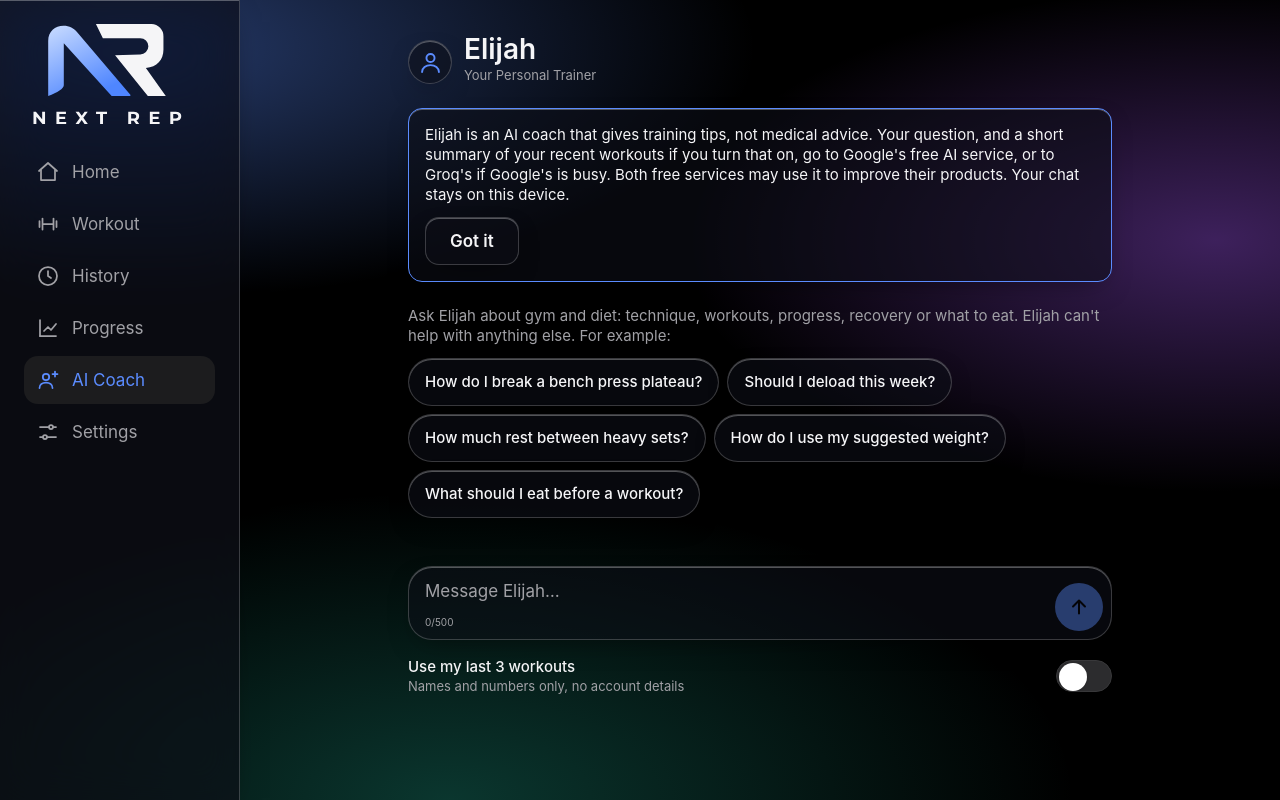
Scenario: the Coach screen › sends the earlier turns with the next question
The image size is (1280, 800).
Type "one" into the text box with placeholder "Message Elijah…" at [760, 603], box [409,567,1111,639]
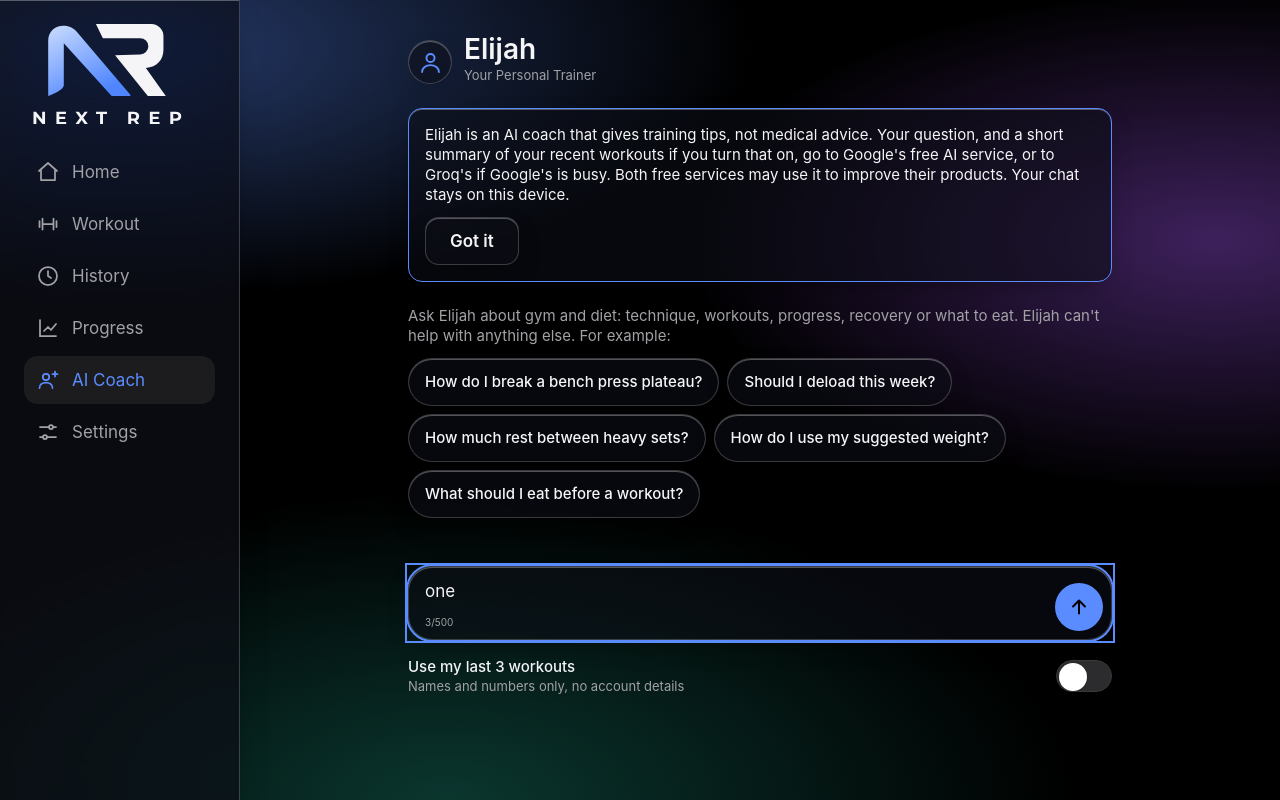
Click the button named "Send" at [1079, 607], box [1055,583,1103,631]
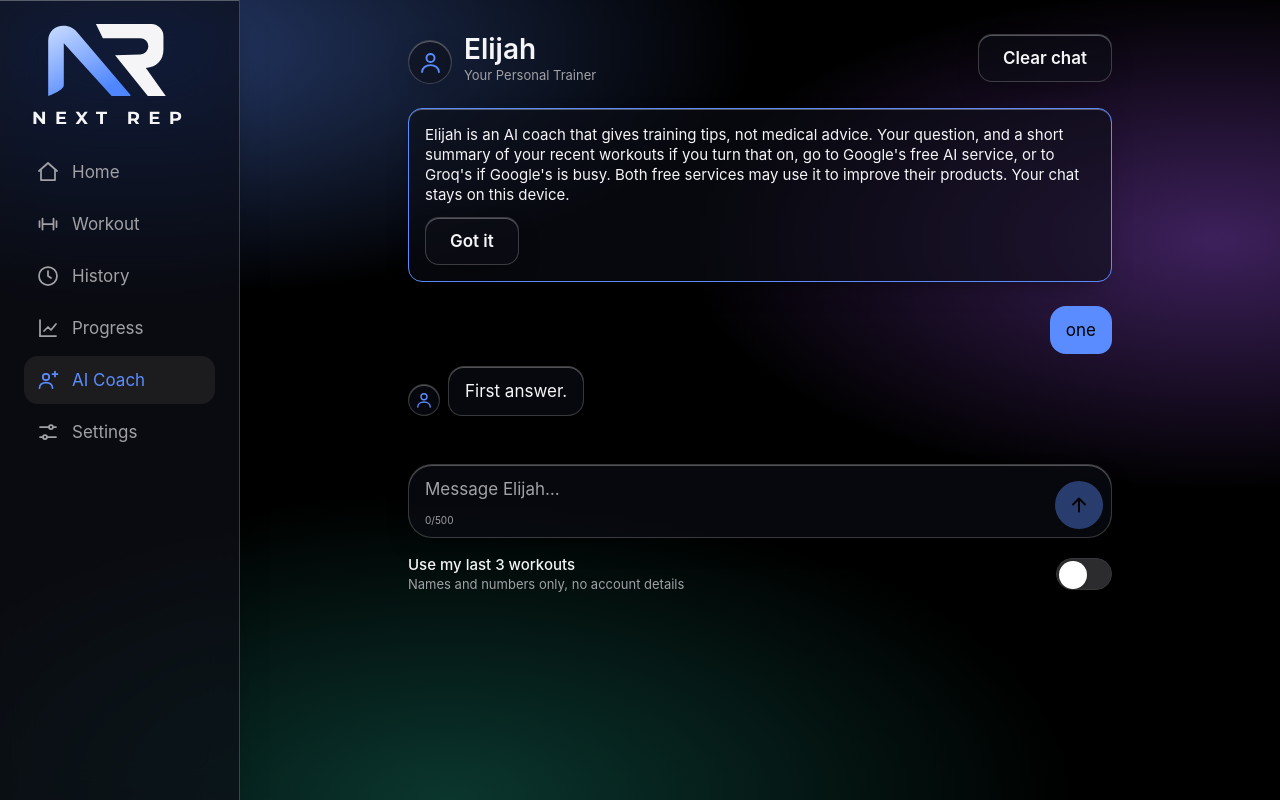
Check: the text "First answer." is shown, box [465,379,567,403]
Type "two" into the text box with placeholder "Message Elijah…" at [760, 501], box [409,465,1111,537]
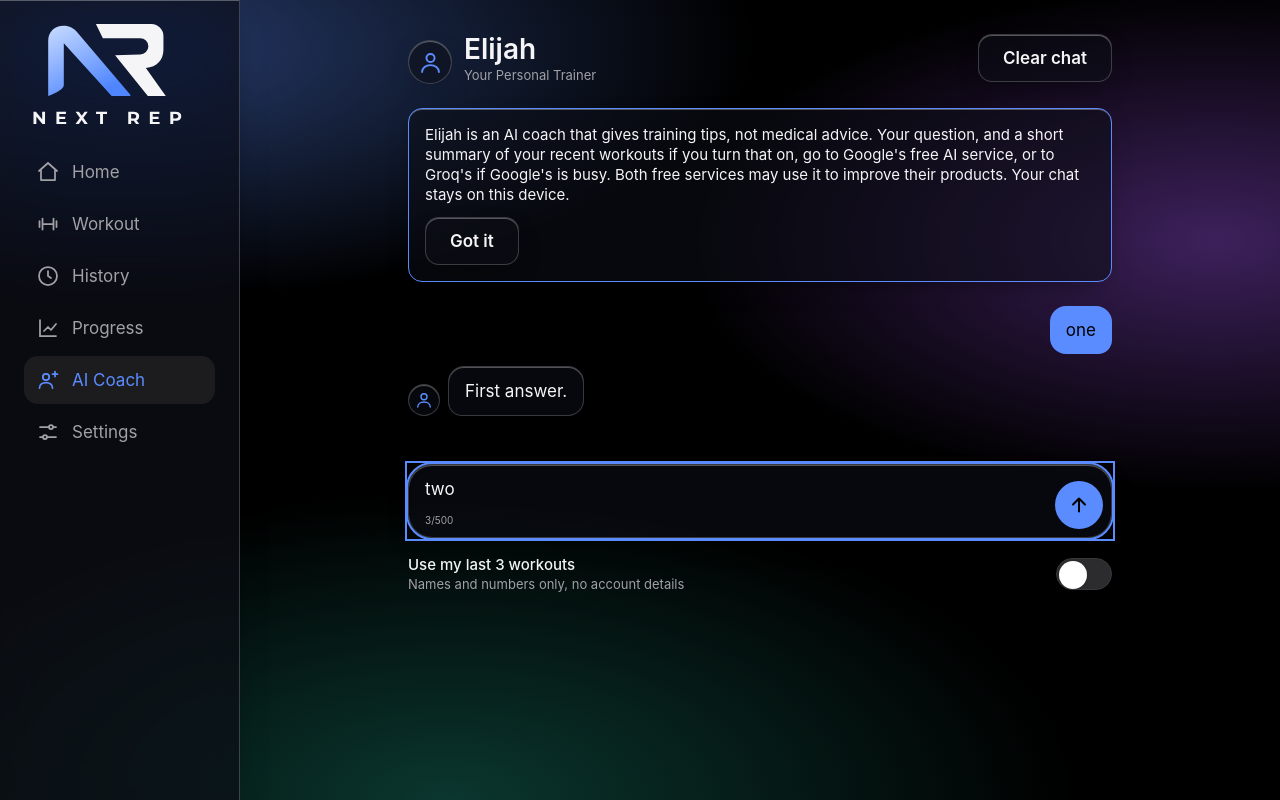
Click the button named "Send" at [1079, 505], box [1055,481,1103,529]
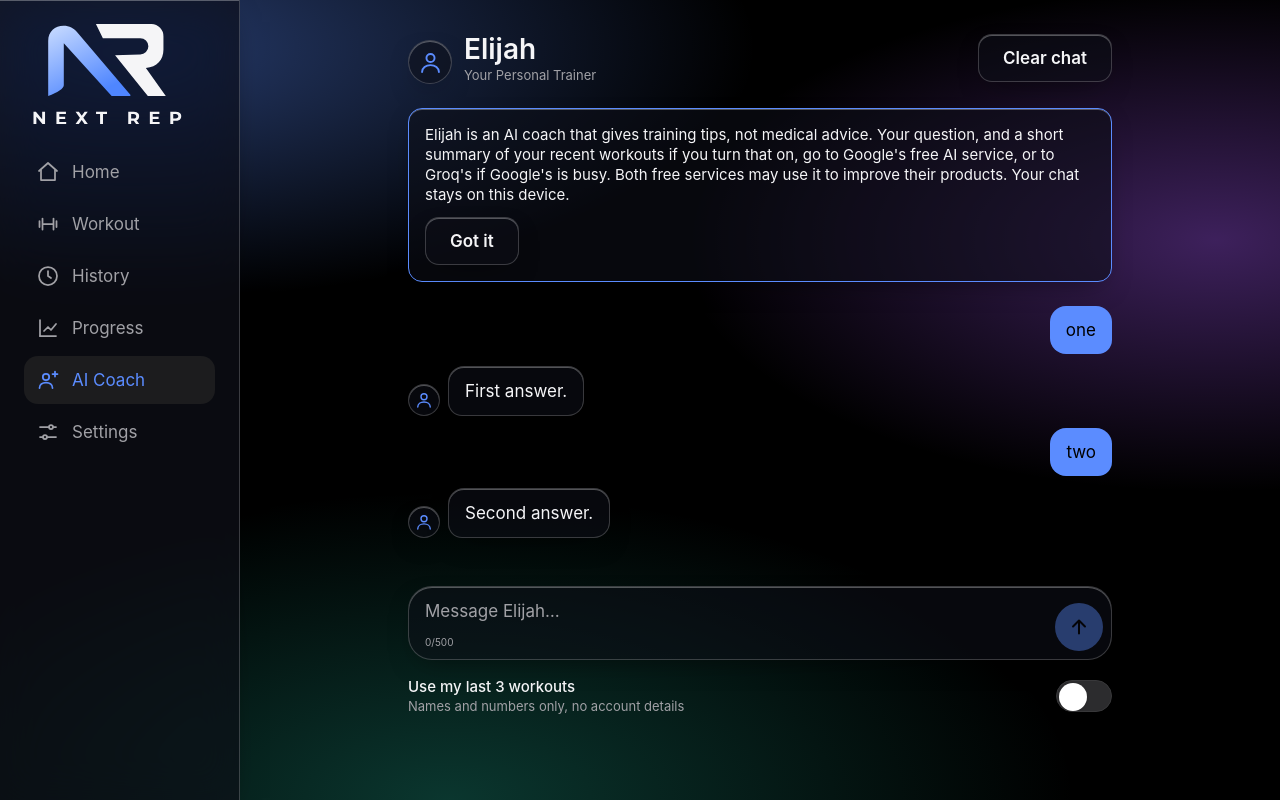
Check: the text "Second answer." is shown, box [465,501,593,525]
